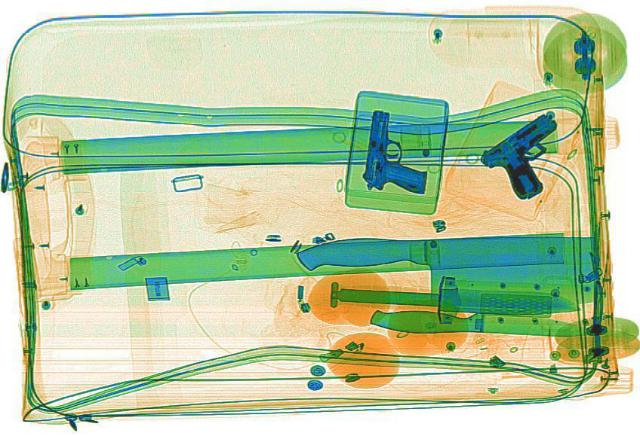Gun: (461, 111, 604, 201), (353, 108, 442, 193)
Knife: (295, 233, 599, 308), (330, 279, 578, 317), (366, 306, 592, 339)
